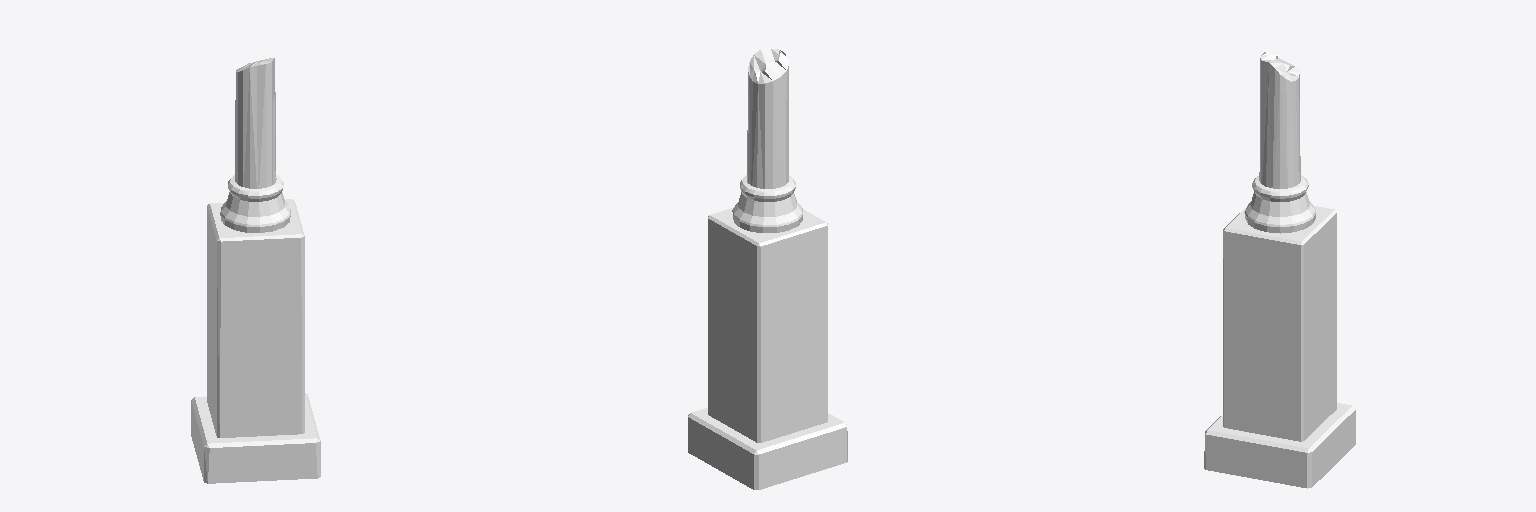
3 views of the same model, side by side, from view 1: azimuth 30°, elevation 25°; view 2: azimuth 150°, elevation 25°; view 3: azimuth 270°, elevation 25° (orthographic).
Parts seen in each view (by area): view 1: ColumC; view 2: ColumC; view 3: ColumC.
Part boxes in pixels (bbox=[...]): ColumC: bbox=[191, 58, 320, 483]; ColumC: bbox=[688, 48, 847, 489]; ColumC: bbox=[1204, 52, 1355, 488].
Bounding box in the file's own units: 8.28 × 24.14 × 8.28.